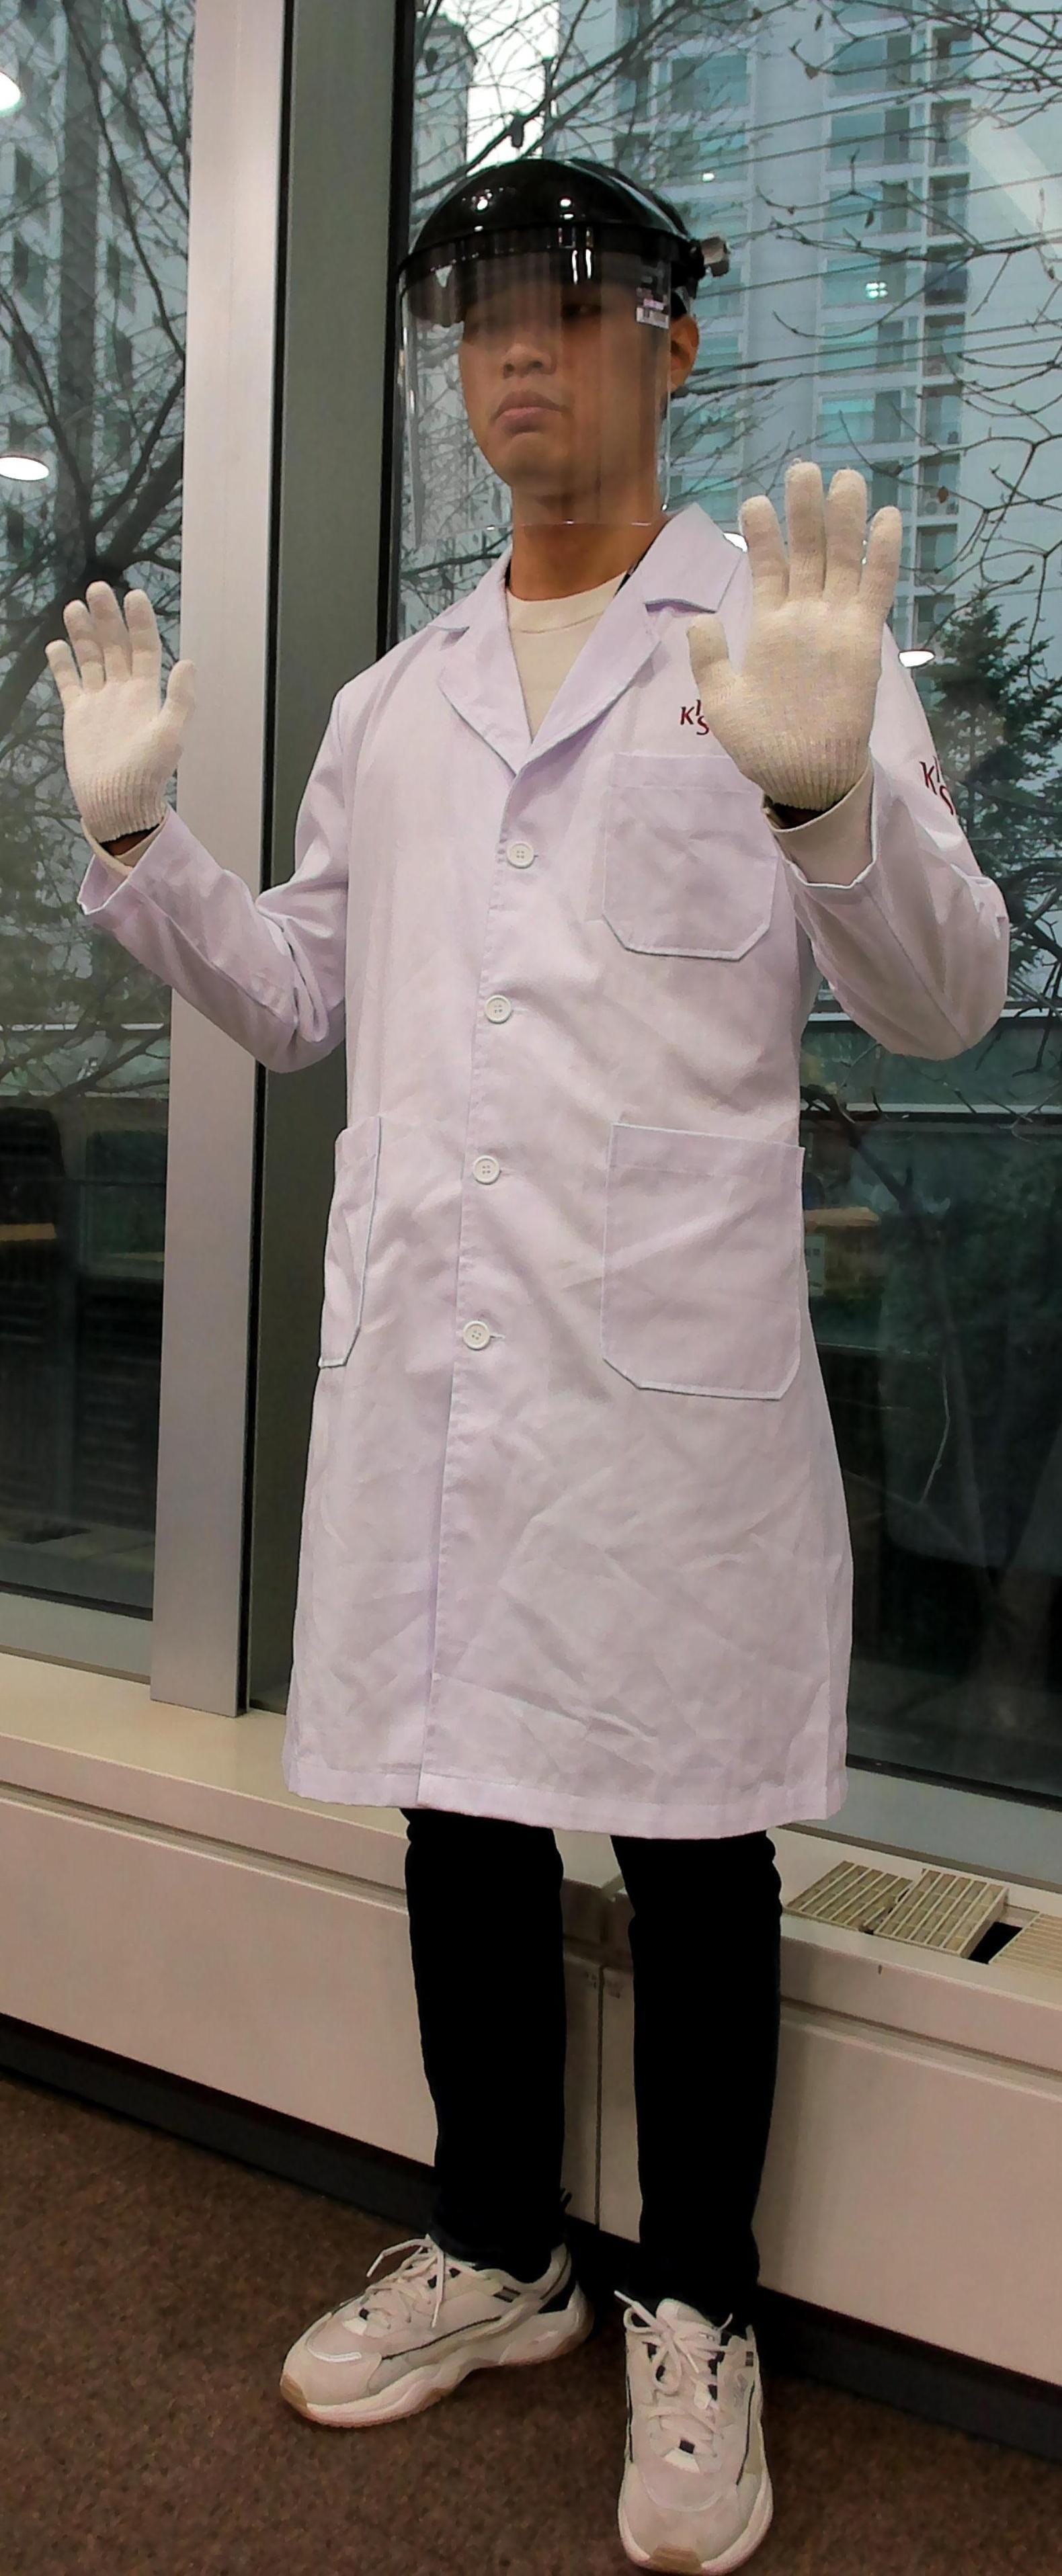lab_coat: (291, 600, 748, 1883)
